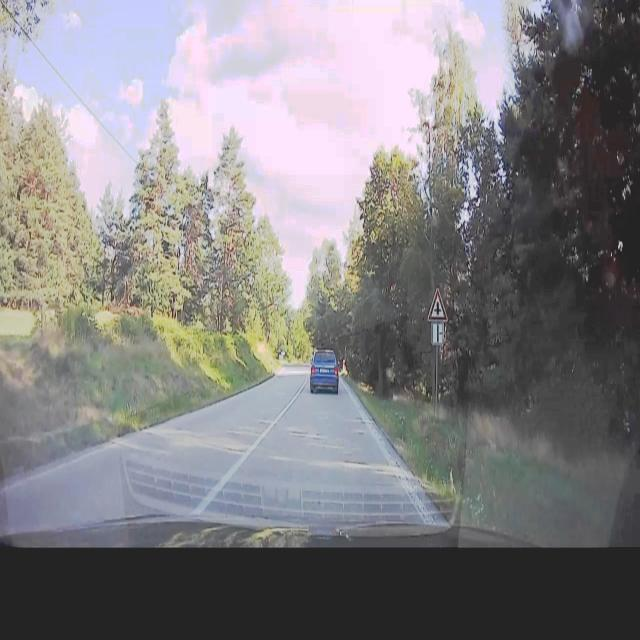Priority road: (426, 285, 449, 324)
